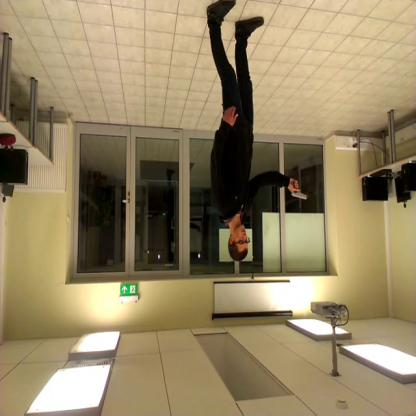Pistol: (282, 171, 314, 209)
